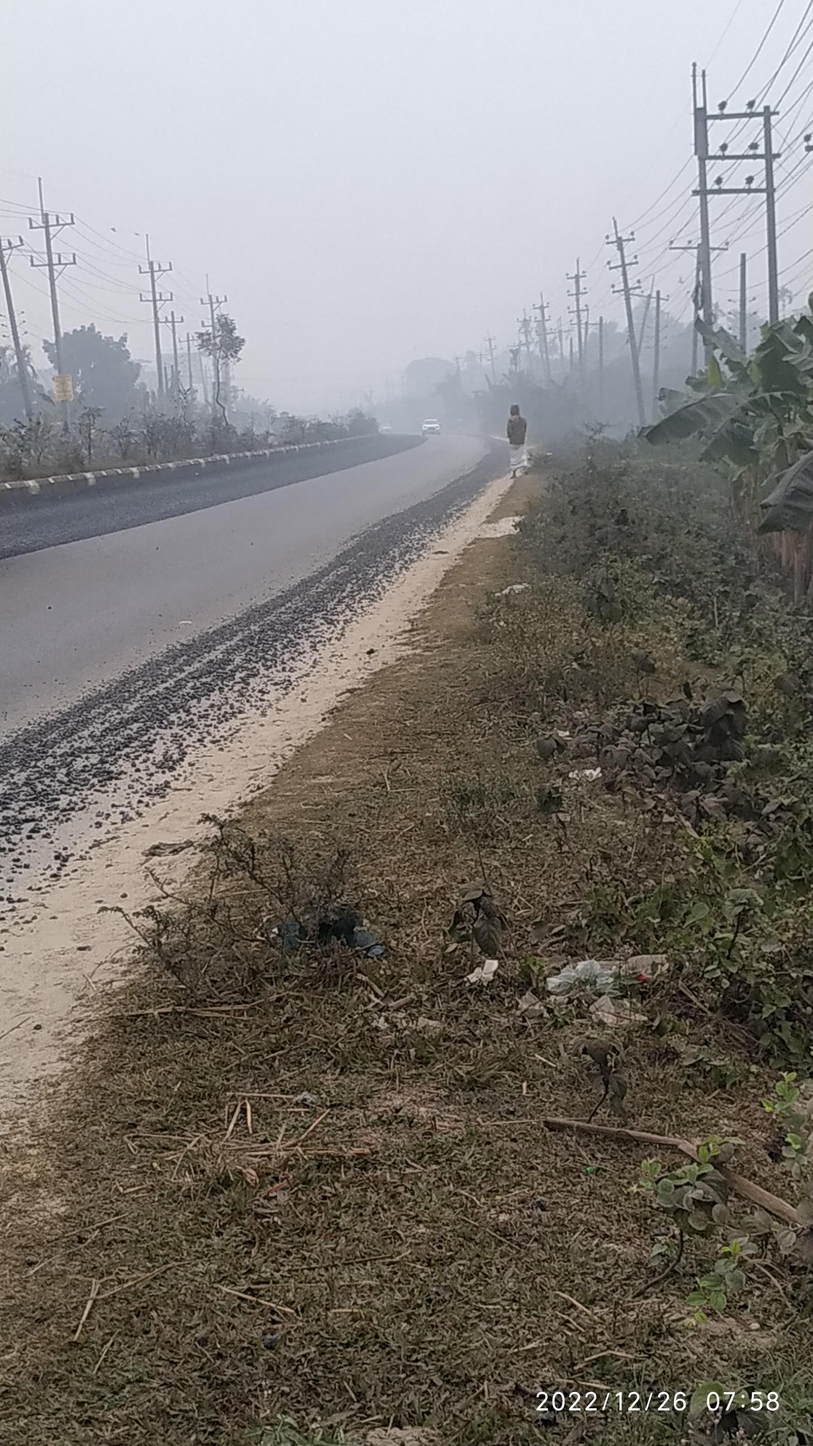Car: (397, 394, 453, 462)
